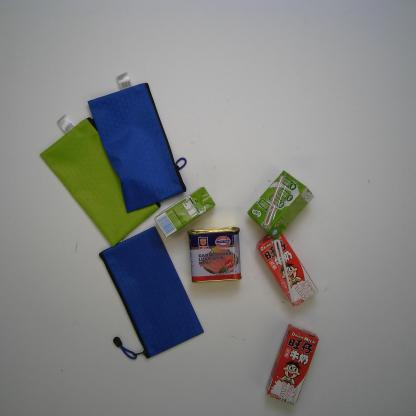Canned Food: (187, 227, 242, 283)
Milk: (256, 231, 320, 308), (247, 170, 314, 240), (266, 324, 320, 406), (153, 186, 216, 237)
Stationery: (39, 113, 161, 248), (99, 226, 204, 360), (87, 72, 187, 212)
